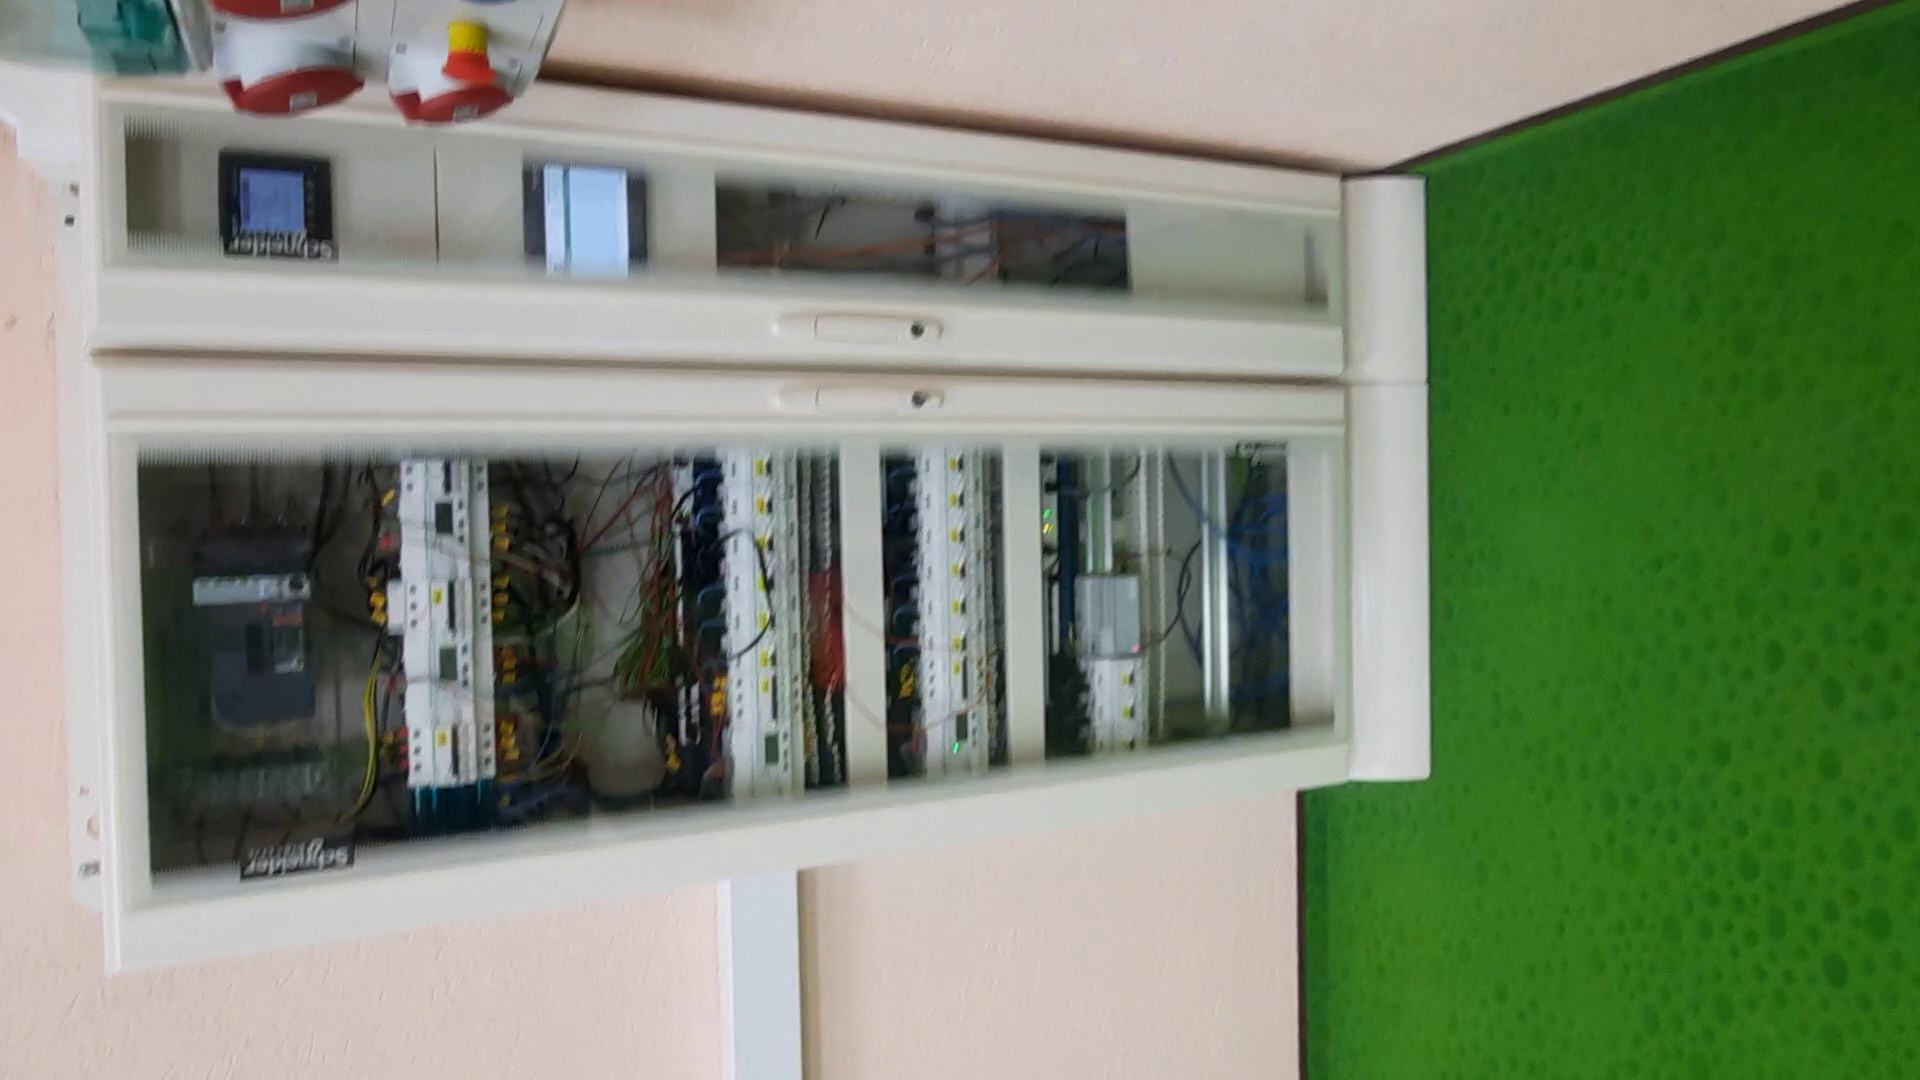stand1: (50, 76, 1435, 975)
